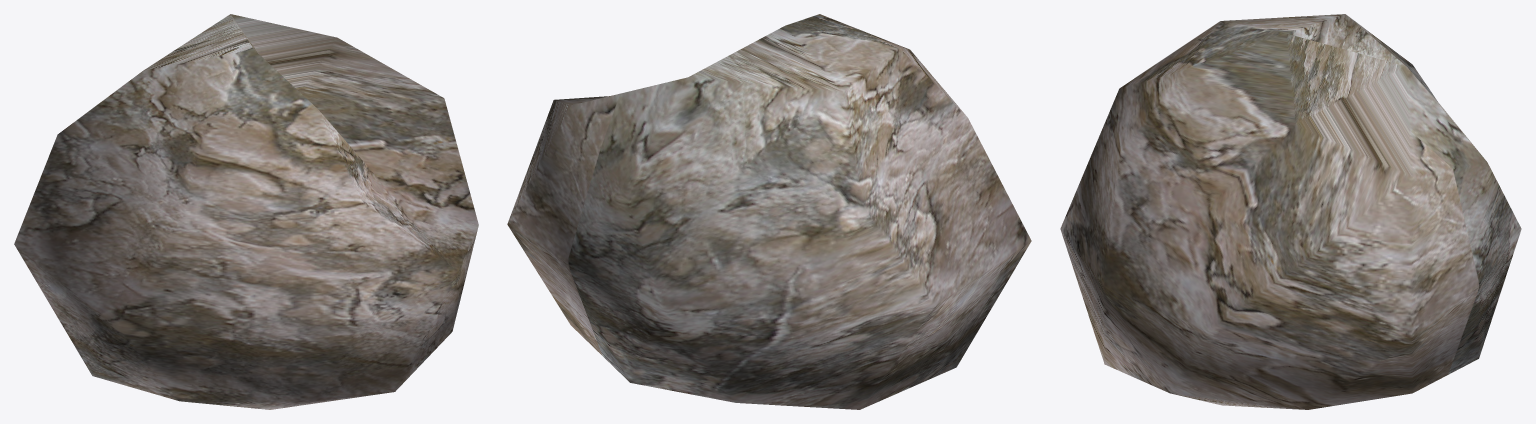
Rendered from rock1.obj.
3 views of the same model, side by side, from view 1: azimuth 30°, elevation 25°; view 2: azimuth 150°, elevation 25°; view 3: azimuth 270°, elevation 25° (orthographic). The views are drawn at different scales.
Visible parts, largest first — view 1: Icosphere; view 2: Icosphere; view 3: Icosphere.
Part boxes in pixels (x1,y1,x2,y2): Icosphere: (14, 14, 478, 409); Icosphere: (507, 14, 1031, 409); Icosphere: (1060, 14, 1521, 409).
Bounding box in the file's own units: 2.06 × 1.57 × 2.
